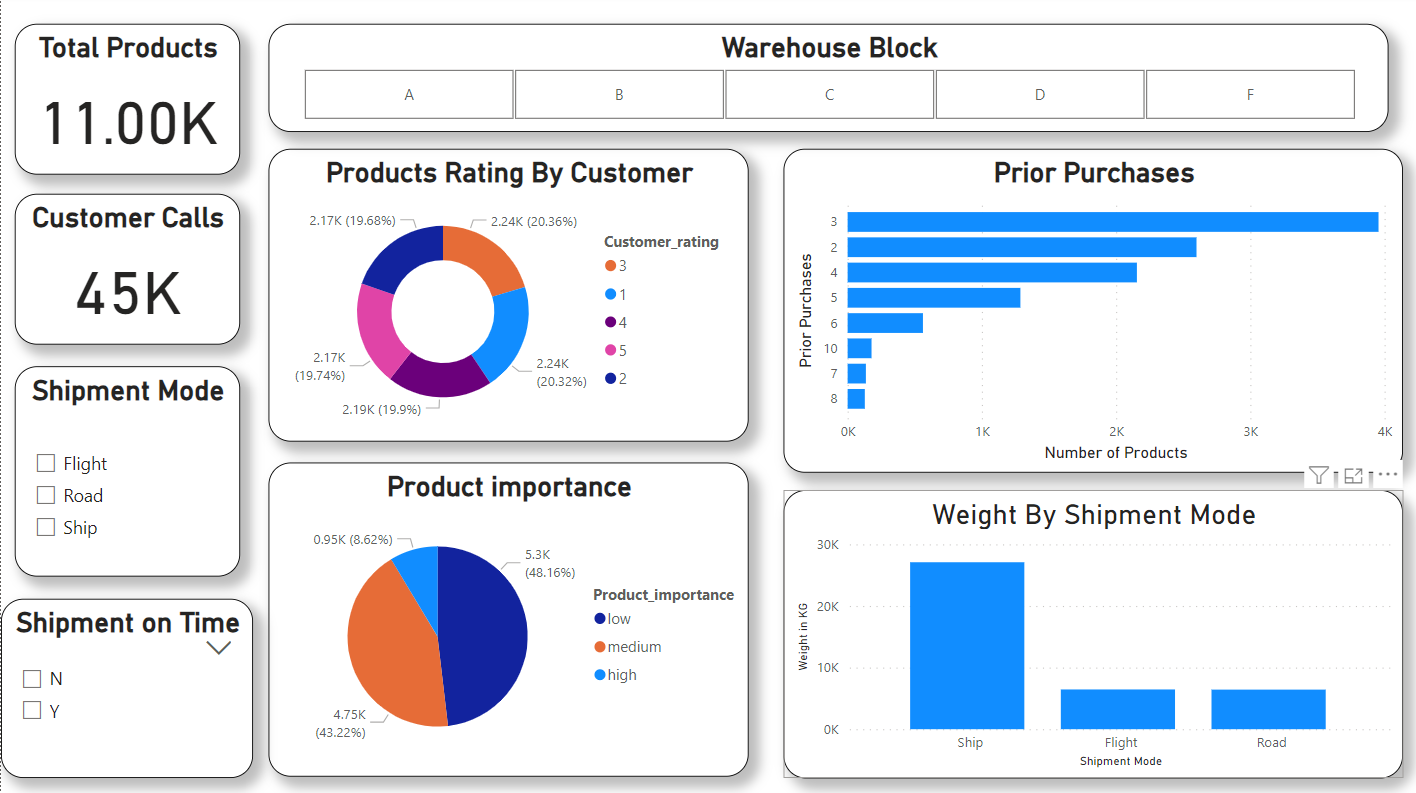

What the dashboard file says about the page in this screenshot:
{"tool":"powerbi","page":{"name":"Page 1","canvas":[1280,720],"ordinal":0},"visuals":[{"type":"card","title":"Total Products","fields":{"Values":["CountNonNull(Train.ID)"]},"box":[12.2,25.7,202.9,135.7],"z":0},{"type":"slicer","title":"Shipment Mode","fields":{"Values":["Train.Mode_of_Shipment"]},"box":[12.2,334.9,202.9,189.5],"z":2000},{"type":"pieChart","title":"Product importance","fields":{"Category":["Train.Product_importance"],"Y":["CountNonNull(Train.ID)"]},"box":[240.8,421.7,432.7,283.6],"z":3000},{"type":"clusteredBarChart","title":"Prior Purchases","fields":{"Category":["Train.Prior_purchases"],"Y":["CountNonNull(Train.ID)"]},"box":[705.3,138.1,558.6,292.2],"z":4000},{"type":"donutChart","title":"Products Rating By Customer","fields":{"Category":["Train.Customer_rating"],"Y":["CountNonNull(Train.ID)"]},"box":[240.8,138.1,432.7,264],"z":5000},{"type":"slicer","title":"Shipment  on Time","fields":{"Values":["Train.Reached.on.Time_Y.N"]},"box":[0,544,227.4,161.4],"z":6000},{"type":"card","title":"Customer Calls","fields":{"Values":["Sum(Train.Customer_care_calls)"]},"box":[12.2,179.7,202.9,135.7],"z":7000},{"type":"columnChart","title":"Weight By Shipment Mode","fields":{"Y":["Sum(Train.Weight_in_Kg)"],"Category":["Train.Mode_of_Shipment"]},"box":[705.3,446.2,558.6,260.4],"z":8000},{"type":"slicer","title":"Warehouse Block","fields":{"Values":["Train.Warehouse_block"]},"box":[240.8,25.7,1009.7,97.8],"z":8001}]}

Visuals, with their boxes in screenshot pixels (x1, y1, x2, y2), scaled from the page's 1280x720 canvas onto the 1416x793 screenshot:
"Total Products" card: detection(13, 28, 238, 178)
"Shipment Mode" slicer: detection(13, 369, 238, 578)
"Product importance" pieChart: detection(266, 464, 745, 777)
"Prior Purchases" clusteredBarChart: detection(780, 152, 1398, 474)
"Products Rating By Customer" donutChart: detection(266, 152, 745, 443)
"Shipment  on Time" slicer: detection(0, 599, 252, 777)
"Customer Calls" card: detection(13, 198, 238, 347)
"Weight By Shipment Mode" columnChart: detection(780, 491, 1398, 778)
"Warehouse Block" slicer: detection(266, 28, 1383, 136)
